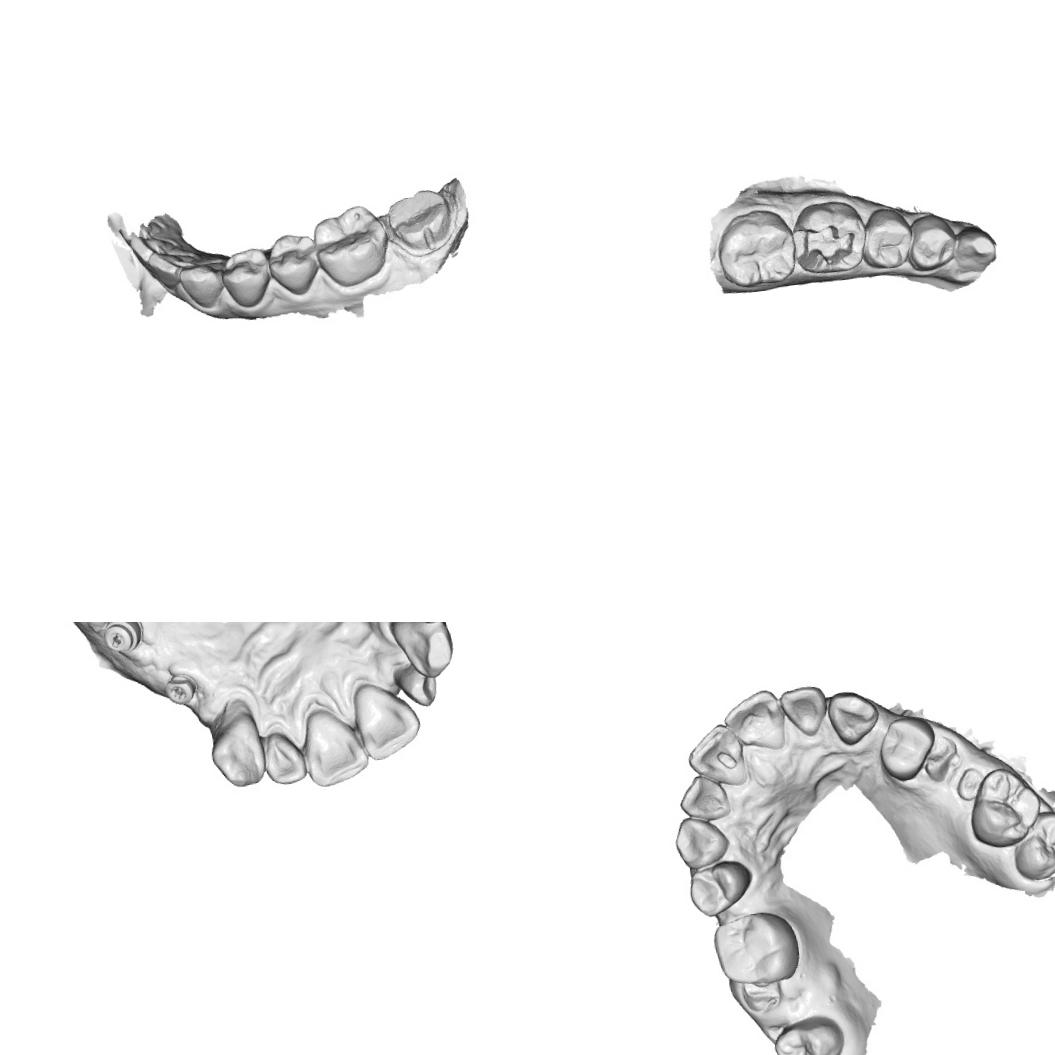canine: (204, 698, 268, 792), (388, 622, 461, 684), (672, 812, 732, 872), (824, 686, 882, 748), (944, 222, 1000, 283), (176, 260, 229, 312)
crown: (383, 184, 455, 256)
implant_minus: (99, 622, 145, 656)
implant_plus: (160, 671, 200, 709)
incisor: (350, 676, 426, 763), (298, 703, 372, 791), (720, 687, 788, 757), (684, 720, 748, 791), (778, 683, 832, 741), (259, 728, 308, 788), (676, 772, 732, 824), (393, 660, 440, 710), (146, 246, 196, 292)
inlay: (789, 216, 859, 272)
molar: (709, 906, 804, 992), (309, 200, 394, 290), (712, 204, 800, 290), (963, 763, 1046, 851), (1008, 807, 1055, 883), (770, 1011, 849, 1055)
premolar: (875, 714, 940, 784), (686, 858, 755, 920), (264, 229, 322, 298), (858, 204, 916, 272), (902, 210, 960, 274), (218, 246, 273, 310)
